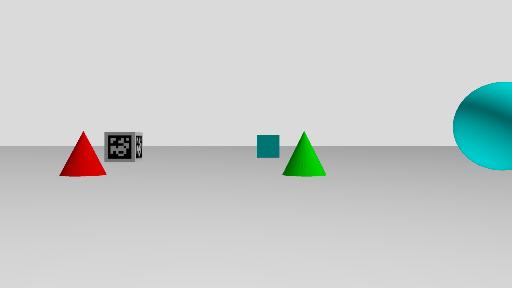green_cone: (282, 130, 327, 177)
red_cone: (59, 131, 107, 177)
